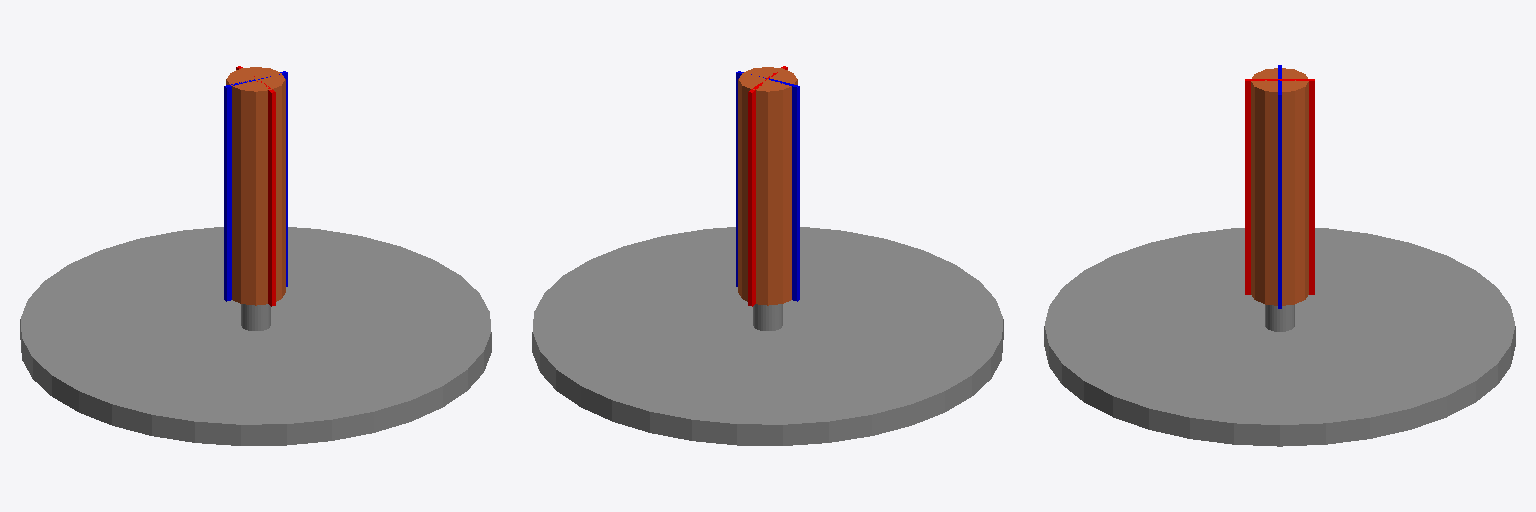
robot.urdf — screwdriver:
<?xml version="1.0"?>
<robot name="screwdriver">

  <!-- ========== BASE (wide cylinder) ========== -->
  <link name="base">
    <visual>
      <origin xyz="0 0 0" />
      <geometry>
        <cylinder radius="0.1" length="0.01" />
      </geometry>
      <material name="base_material">
        <color rgba="0.6 0.6 0.6 1" />
      </material>
    </visual>
    <collision>
      <origin xyz="0 0 0" />
      <geometry>
        <cylinder radius="0.1" length="0.01" />
      </geometry>
    </collision>
    <inertial>
      <mass value="10.0" />
      <origin xyz="0 0 0" />
      <inertia ixx="0.02508" ixy="0.0" ixz="0.0" iyy="0.02508" iyz="0.0" izz="0.05" />
    </inertial>
  </link>

  <!-- ========== HANDLE (upper, orange) ========== -->
  <link name="handle">
    <visual>
      <origin xyz="0 0 0.01" />
      <geometry>
        <mesh filename="../meshes/screw_upper_12.stl" />
      </geometry>
      <material name="handle_orange">
        <color rgba="0.8 0.4 0.2 1"/>
      </material>
    </visual>
    <collision>
      <origin xyz="0 0 0.01" />
      <geometry>
        <mesh filename="../meshes/screw_upper_12.stl" />
      </geometry>
    </collision>
    <inertial>
      <origin xyz="0 0 0.01" />
      <mass value="0.05595962"/>
      <inertia ixx="0.0000442722195" ixy="0" ixz="0"
               iyy="0.0000442722195" iyz="0"
               izz="0.00000437184525"/>
    </inertial>
    <!-- Red stripe on nut -->
    <visual>
      <origin xyz="0 0 0.06" rpy="0 0 0"/>
      <geometry>
        <!-- thin box wrapping around the cylinder -->
        <box size="0.002 0.03 0.1"/>
      </geometry>
      <material name="stripe_red">
        <color rgba="1 0 0 1"/>
      </material>
    </visual>

    <!-- Blue stripe on nut -->
    <visual>
      <origin xyz="0 0 0.06" rpy="0 0 1.5708"/>
      <geometry>
        <box size="0.002 0.03 0.1"/>
      </geometry>
      <material name="stripe_blue">
        <color rgba="0 0 1 1"/>
      </material>
    </visual>
  </link>

  <!-- ========== SHAFT (lower, gray) ========== -->
  <link name="shaft">
    <visual>
      <origin xyz="0 0 0.01" />
      <geometry>
        <cylinder radius="0.00625" length="0.02" />
      </geometry>
      <material name="shaft_gray">
        <color rgba="0.6 0.6 0.6 1"/>
      </material>
    </visual>
    <collision>
      <origin xyz="0 0 0.01" />
      <geometry>
        <cylinder radius="0.00625" length="0.02" />
      </geometry>
    </collision>
    <inertial>
      <origin xyz="0 0 0.05" />
      <mass value="0.01233075"/>
      <inertia ixx="0.00000659566742" ixy="0" ixz="0"
               iyy="0.00000659566742" iyz="0"
               izz="0.0000000385335974"/>
    </inertial>
  </link>

  <!-- Base–shaft connection (fixed) -->
  <joint name="base_to_shaft" type="fixed">
    <parent link="base" />
    <child  link="shaft" />
    <origin xyz="0 0 0" rpy="0 0 0" />
  </joint>

  <!-- Handle–shaft connection (revolute joint for training)-->
  <joint name="handle_to_shaft" type="revolute">
    <parent link="shaft"/>
    <child  link="handle"/>
    <origin xyz="0 0 0.01" rpy="0 0 0"/>
    <axis  xyz="0 0 -1" />
    <dynamics friction="0.2"/>
    <limit lower="0.0" upper="628.3185" effort="2.0" velocity="6.2832" /> <!-- 100 rotations -->
  </joint>
</robot>

--- Render facts (derived) ---
The picture shows the robot from 3 angles, left to right: view 1: azimuth 30°, elevation 25°; view 2: azimuth 150°, elevation 25°; view 3: azimuth 270°, elevation 25°; orthographic projection.
Robot: screwdriver — 3 links, 2 joints (1 revolute, 1 fixed); root link base; default pose: all joints at 0.
Links seen in each view (by area): view 1: base, handle, shaft; view 2: base, handle, shaft; view 3: base, handle, shaft.
Link boxes in pixels (x1,y1,x2,y2): base: (20,227,491,445); handle: (224,66,287,306); shaft: (241,304,270,330); base: (532,227,1003,445); handle: (736,66,799,306); shaft: (753,304,782,330); base: (1044,228,1515,446); handle: (1245,65,1314,308); shaft: (1265,305,1294,331).
Size in the robot's own frame: 0.2 by 0.2 by 0.125 metres.
1 mesh visuals loaded from 1 distinct referenced files (1 binary STL).